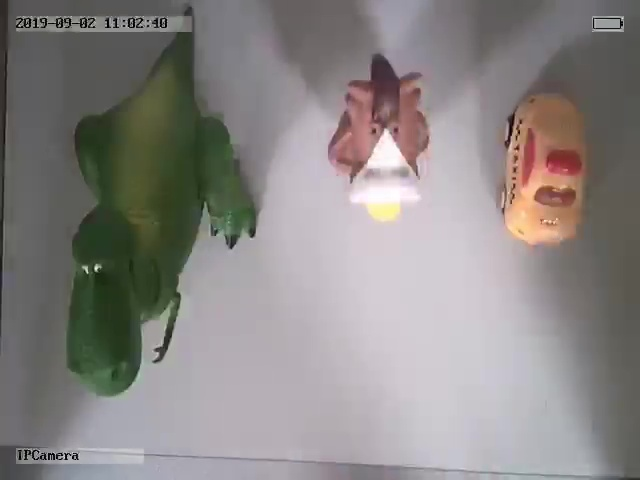car: (495, 86, 592, 251)
horse: (326, 54, 434, 223)
rex: (63, 32, 258, 401)
